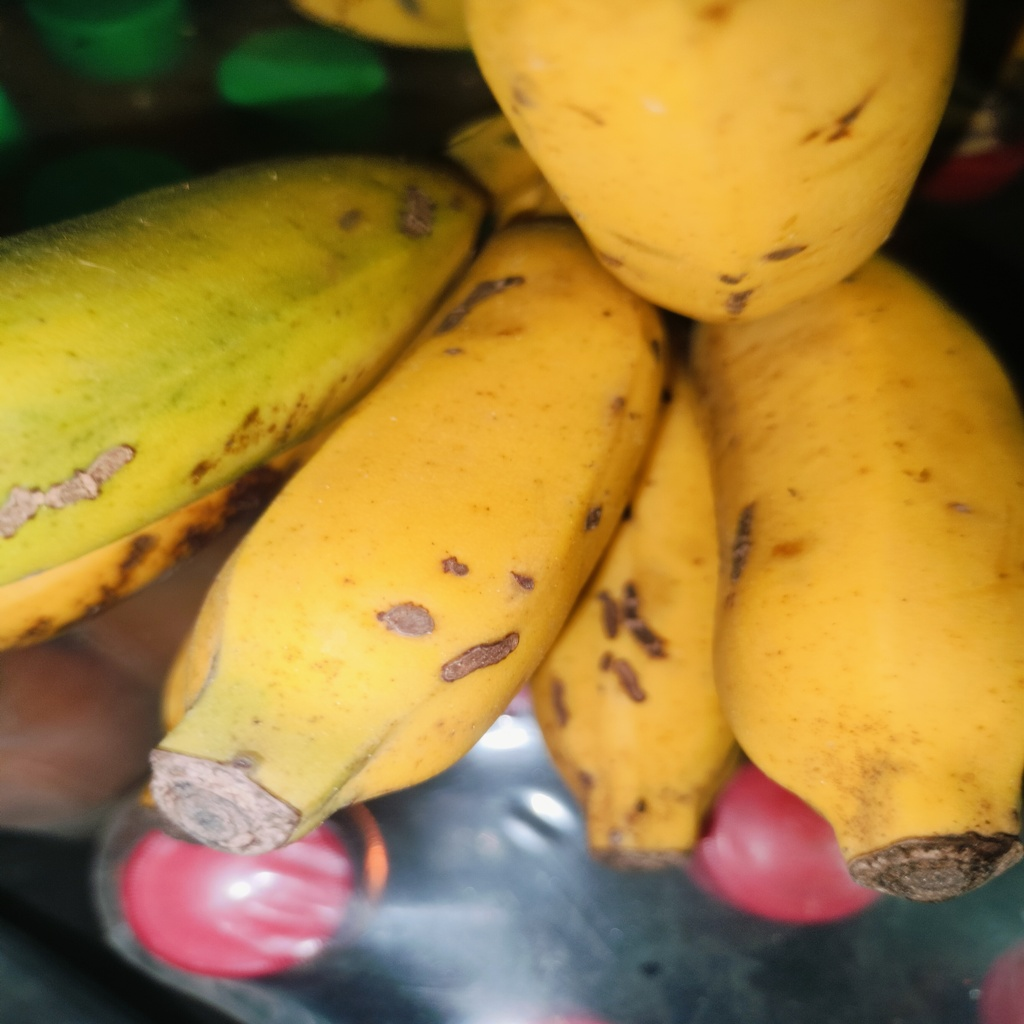unhealthy: (154, 224, 663, 846)
